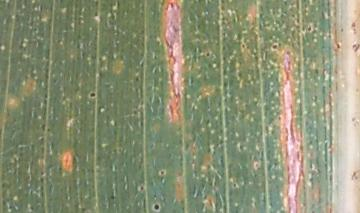tarspot: (86, 90, 99, 102), (268, 41, 281, 53), (156, 166, 168, 179), (149, 201, 163, 212), (202, 49, 214, 60), (135, 184, 149, 193), (107, 191, 118, 202)
